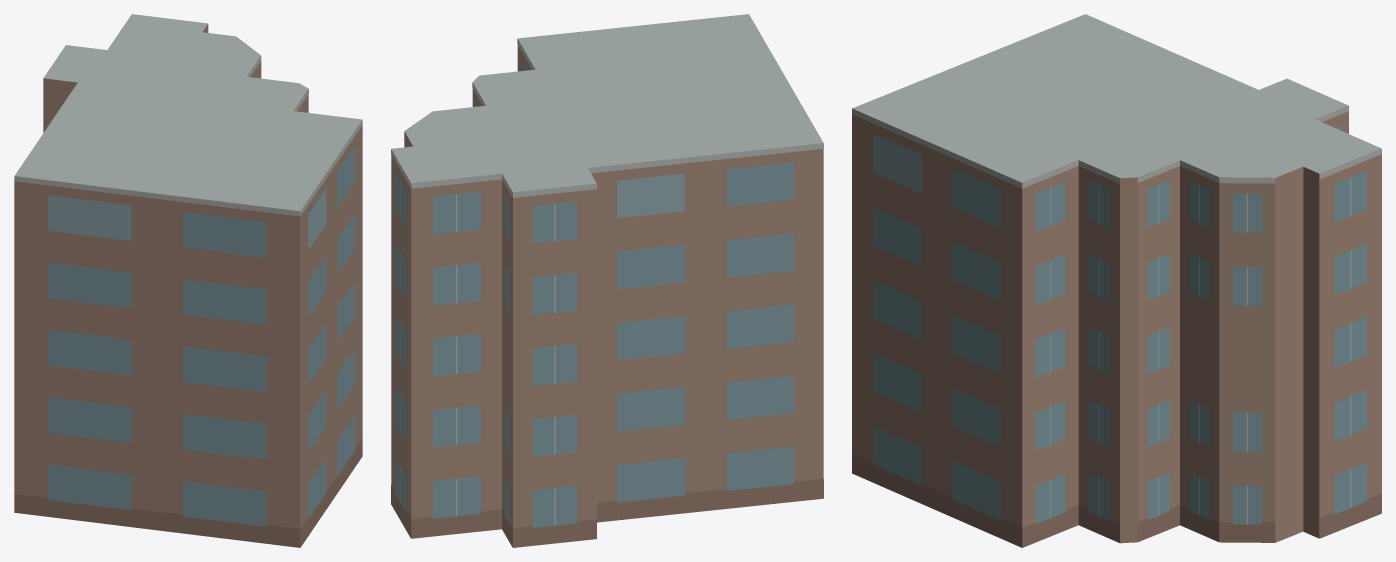
Rendered from survey-upis-32756763.glb.
The picture shows the model from 3 angles, left to right: view 1: azimuth 30°, elevation 25°; view 2: azimuth 150°, elevation 25°; view 3: azimuth 270°, elevation 25°; orthographic projection. The views are drawn at different scales.
Visible parts, largest first — view 1: survey-upis-32756763.tmp; view 2: survey-upis-32756763.tmp; view 3: survey-upis-32756763.tmp.
Part boxes in pixels (bbox=[...]): survey-upis-32756763.tmp: bbox=[14, 14, 362, 547]; survey-upis-32756763.tmp: bbox=[391, 14, 823, 547]; survey-upis-32756763.tmp: bbox=[852, 14, 1381, 547].
Size of the model in its own units: 15.39 by 15.5 by 20.39.
